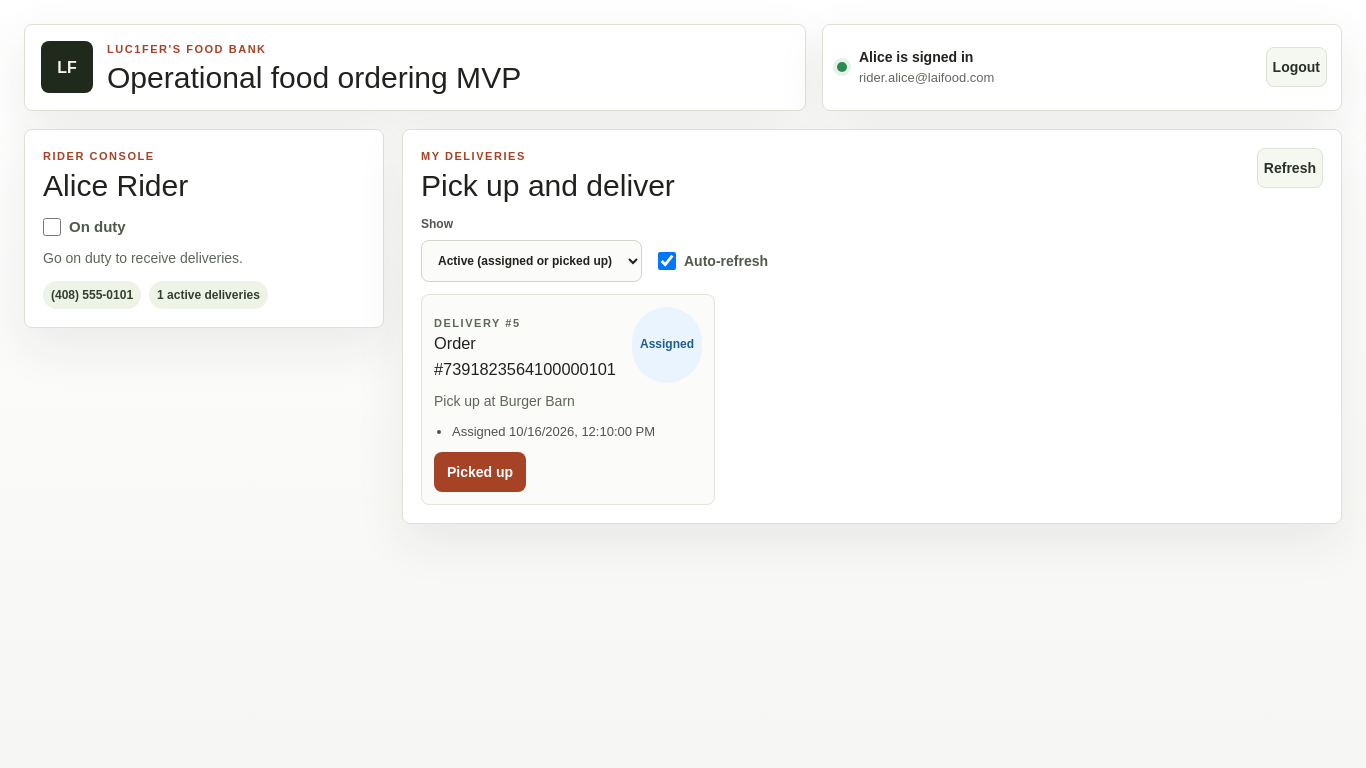
Scenario: rider console › picks up and delivers an assigned delivery
This screenshot has width=1366, height=768.
Expected: the element "Delivery #5" shows "Pick up at Burger Barn", [421, 294, 715, 505]
Expected: the text "1 active deliveries" is shown, [149, 281, 268, 309]
Click the button "Picked up" at x=480, y=472, box [434, 452, 526, 492]
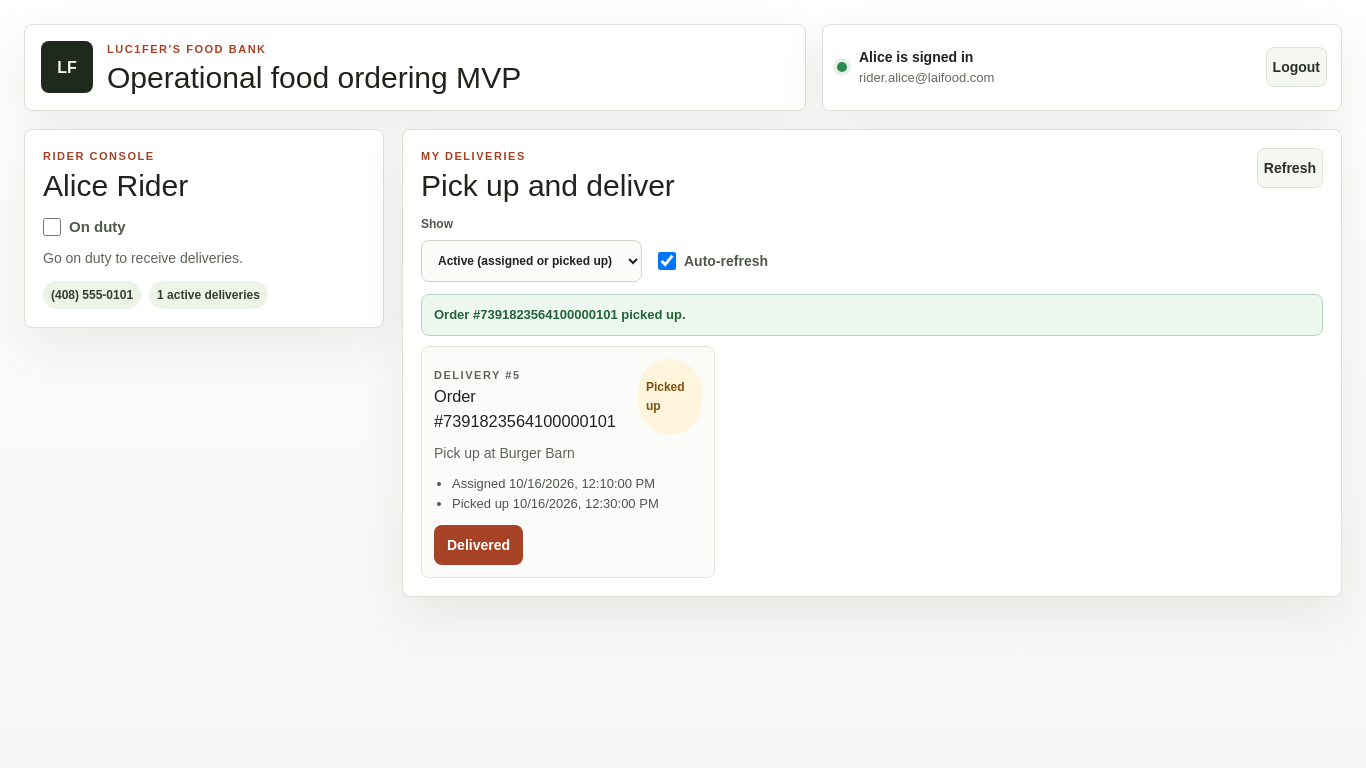
Expected: the text "Picked up" is shown, [638, 359, 702, 435]
Click the button "Delivered" at x=478, y=545, box [434, 525, 523, 565]
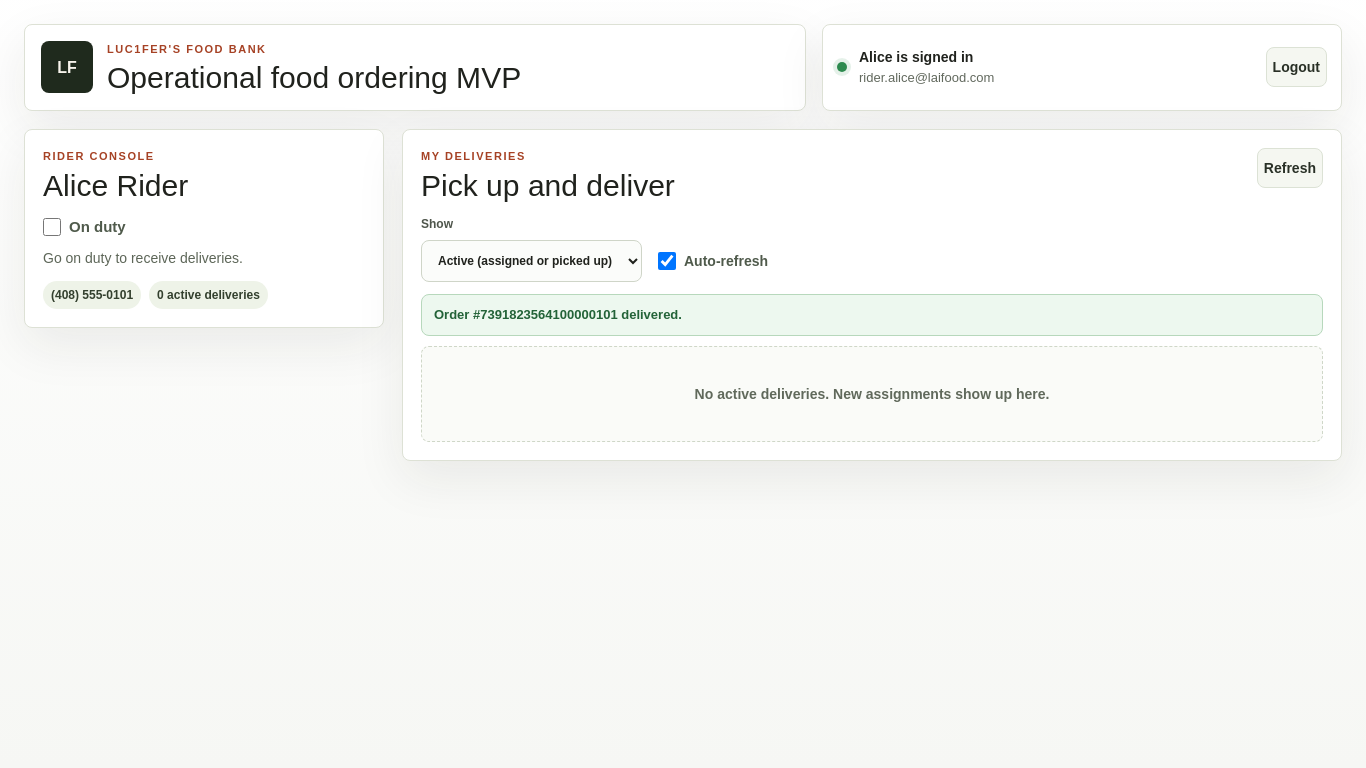
Expected: the text "No active deliveries. New assignments show up here." is shown, [421, 346, 1323, 442]
Expected: the text "0 active deliveries" is shown, [149, 281, 268, 309]
